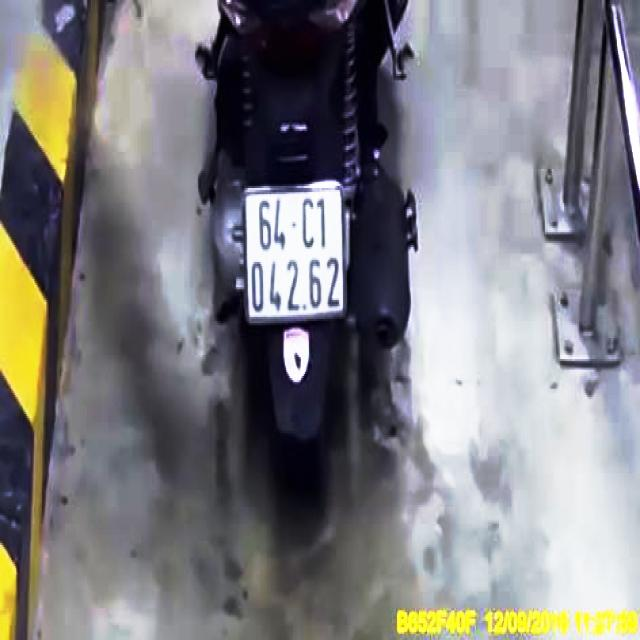license_plate: (245, 185, 348, 321)
